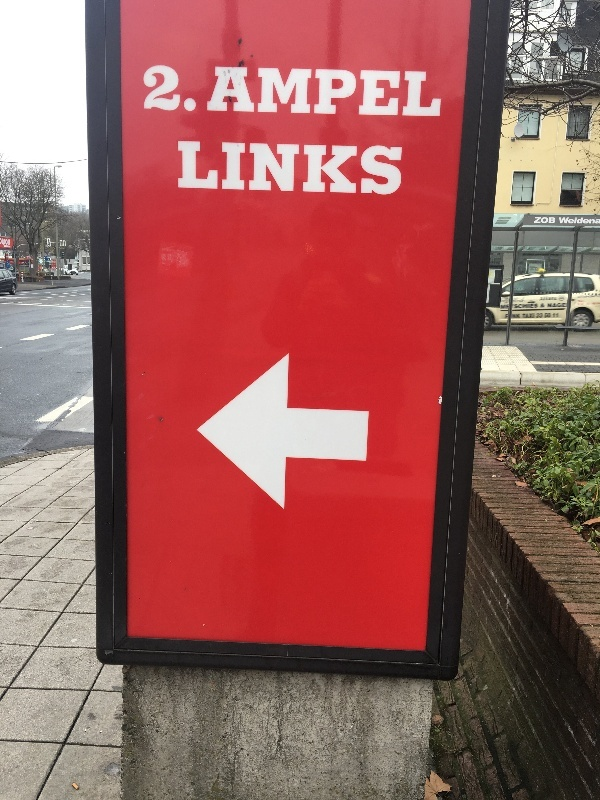text: (193, 142, 208, 195), (209, 142, 224, 195), (225, 142, 240, 195), (241, 142, 256, 195), (257, 142, 272, 195), (273, 142, 288, 195), (289, 142, 304, 195), (305, 142, 320, 195), (321, 142, 336, 195), (337, 142, 352, 195), (353, 142, 368, 195), (369, 142, 384, 195), (385, 142, 400, 195), (145, 63, 160, 114), (161, 63, 176, 114), (177, 63, 192, 114), (225, 67, 240, 118), (241, 67, 256, 118), (257, 67, 272, 118), (273, 67, 288, 118), (289, 67, 304, 118), (305, 67, 320, 118), (321, 67, 336, 118), (337, 67, 352, 118), (353, 67, 368, 118), (369, 67, 384, 118), (385, 67, 400, 118), (401, 67, 416, 118), (417, 67, 432, 118), (178, 142, 192, 195), (433, 67, 447, 118), (213, 67, 224, 118), (193, 63, 202, 114), (1, 238, 16, 248), (561, 216, 576, 224), (577, 216, 592, 224), (401, 142, 403, 195), (545, 218, 556, 224), (593, 216, 600, 224), (535, 218, 544, 224), (143, 63, 144, 114), (51, 261, 64, 263), (54, 261, 64, 263), (559, 216, 560, 224)
